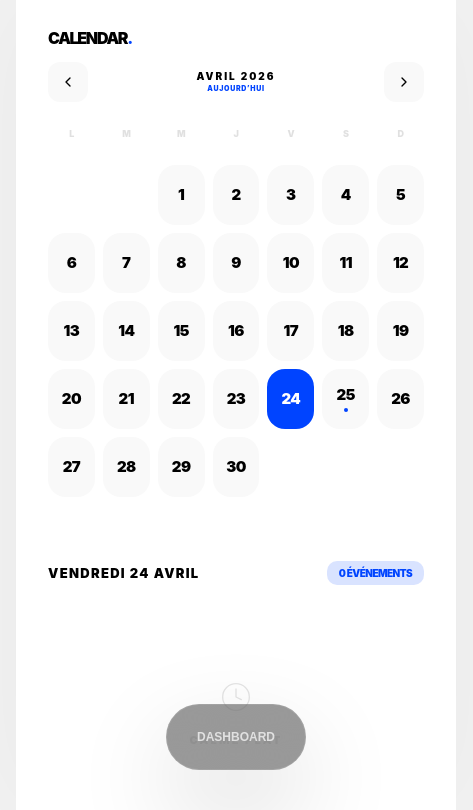
Test: DeliveryRadar › displays an event dot for a date with a delivery estimation
// Click on April 25
Click the text "25" at (346, 395), box [337,385,355,404]
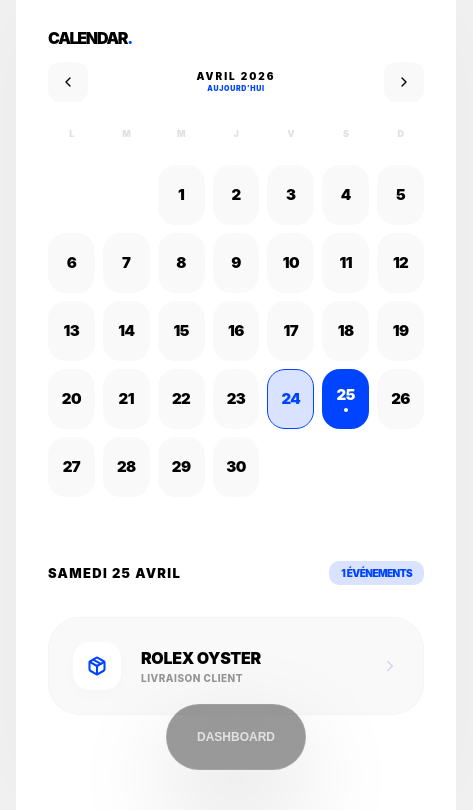
Now the heading "ROLEX OYSTER" is shown, box [141,648,261,668]
Now the text "LIVRAISON CLIENT" is shown, box [141,672,243,684]
